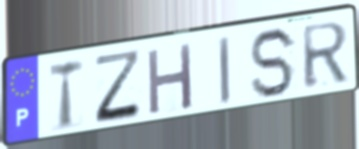H: (145, 40, 195, 118)
I: (217, 33, 232, 107)
R: (299, 19, 351, 92)
S: (248, 26, 299, 101)
T: (47, 57, 85, 133)
Z: (92, 47, 144, 127)
